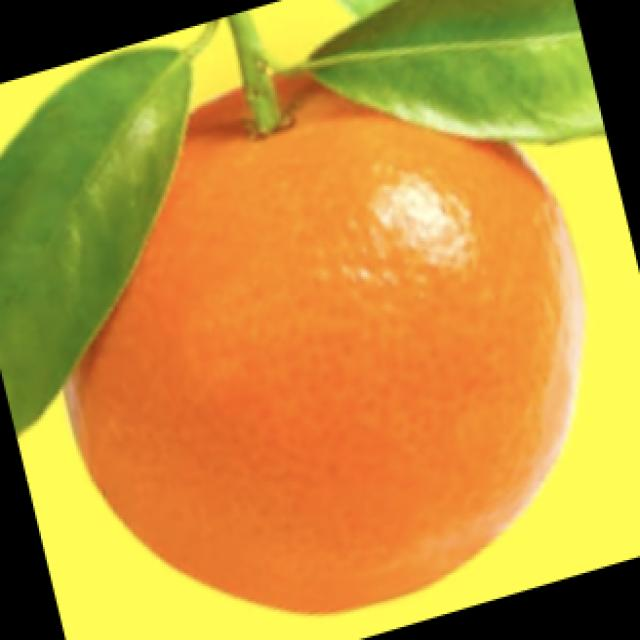matang: (70, 80, 578, 612)
